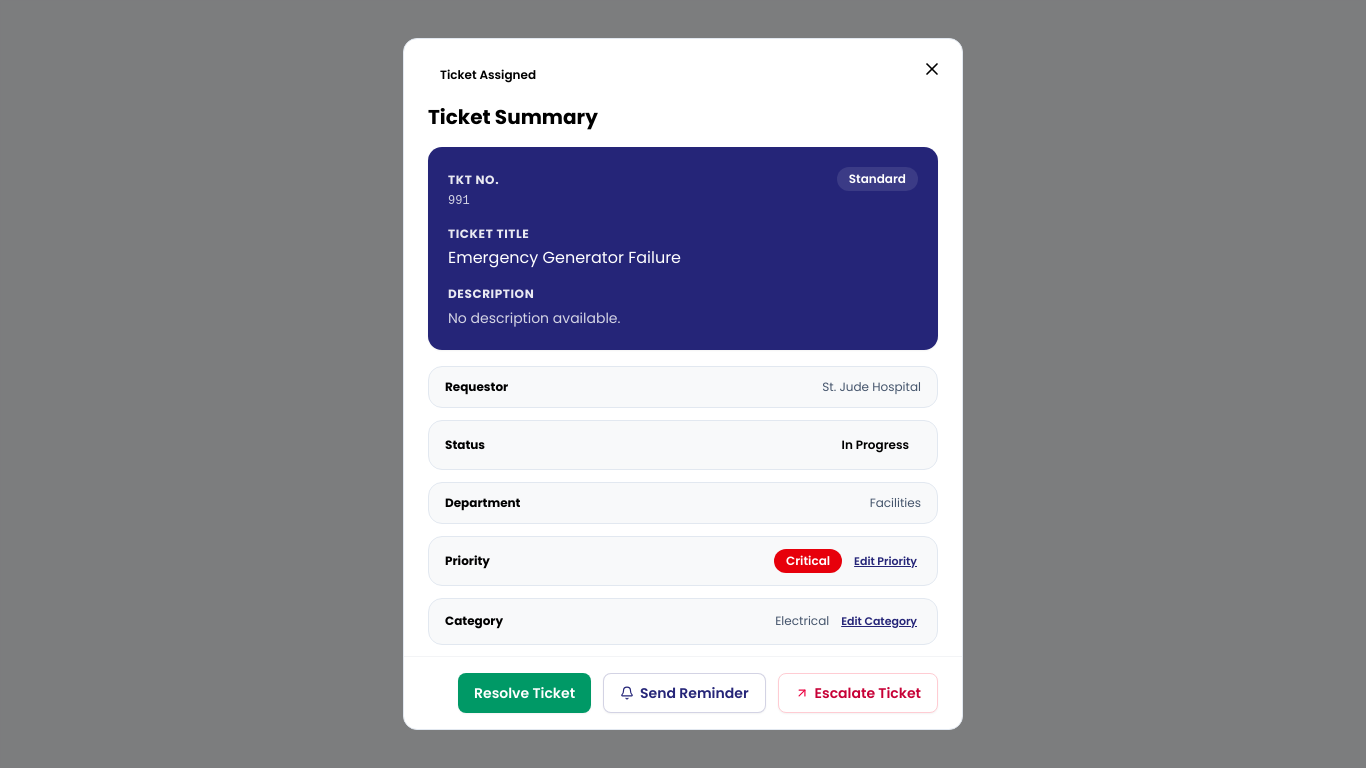
Test: CS SLA Display and Employee Reminder Tests › covers AC-8 (cancel): closing or cancelling Send Reminder dialog aborts send and leaves timeline untouched
Step 1. Click the button "Send Reminder" → (684, 693), box [603,673,766,713]
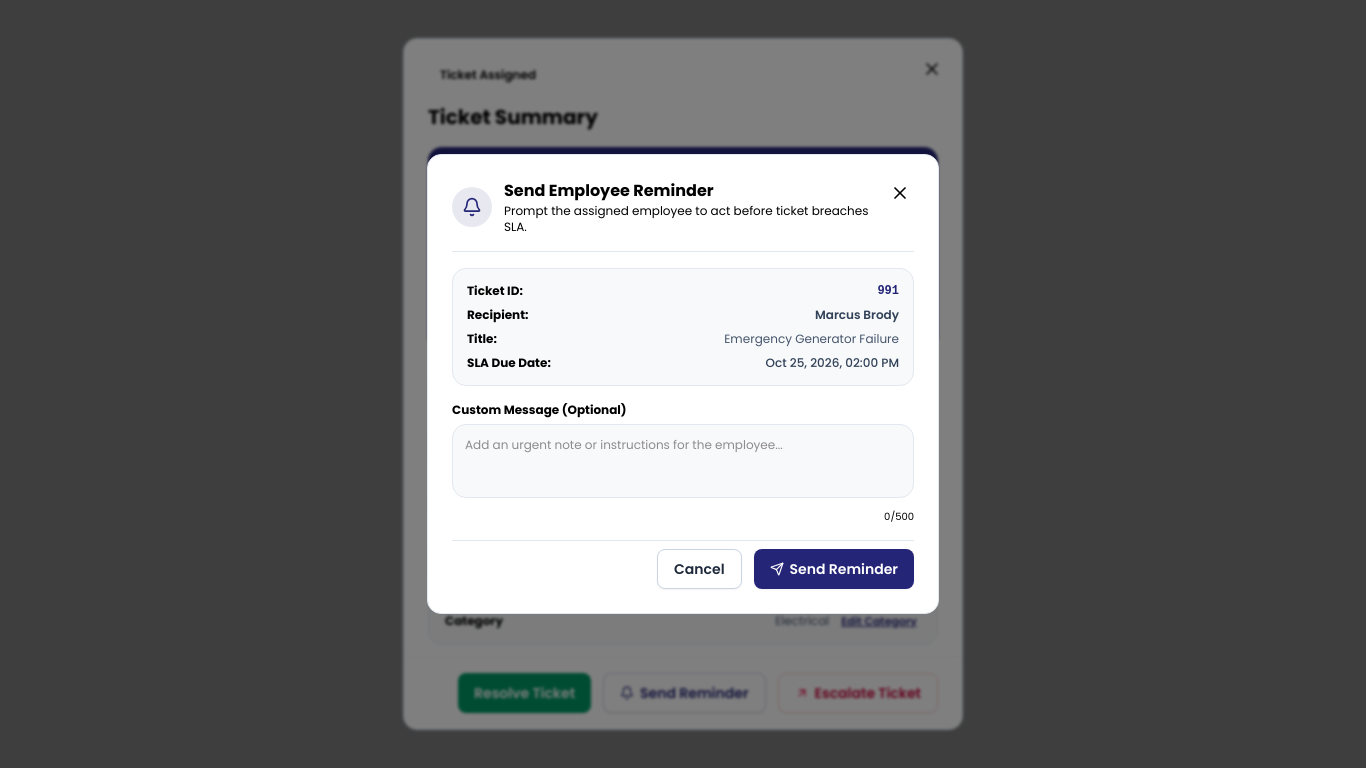
Now the heading "Send Employee Reminder" is shown, box [504,179,714,202]
# Click Cancel in modal
Step 2. Click the button "Cancel" → (699, 569), box [657,549,742,589]
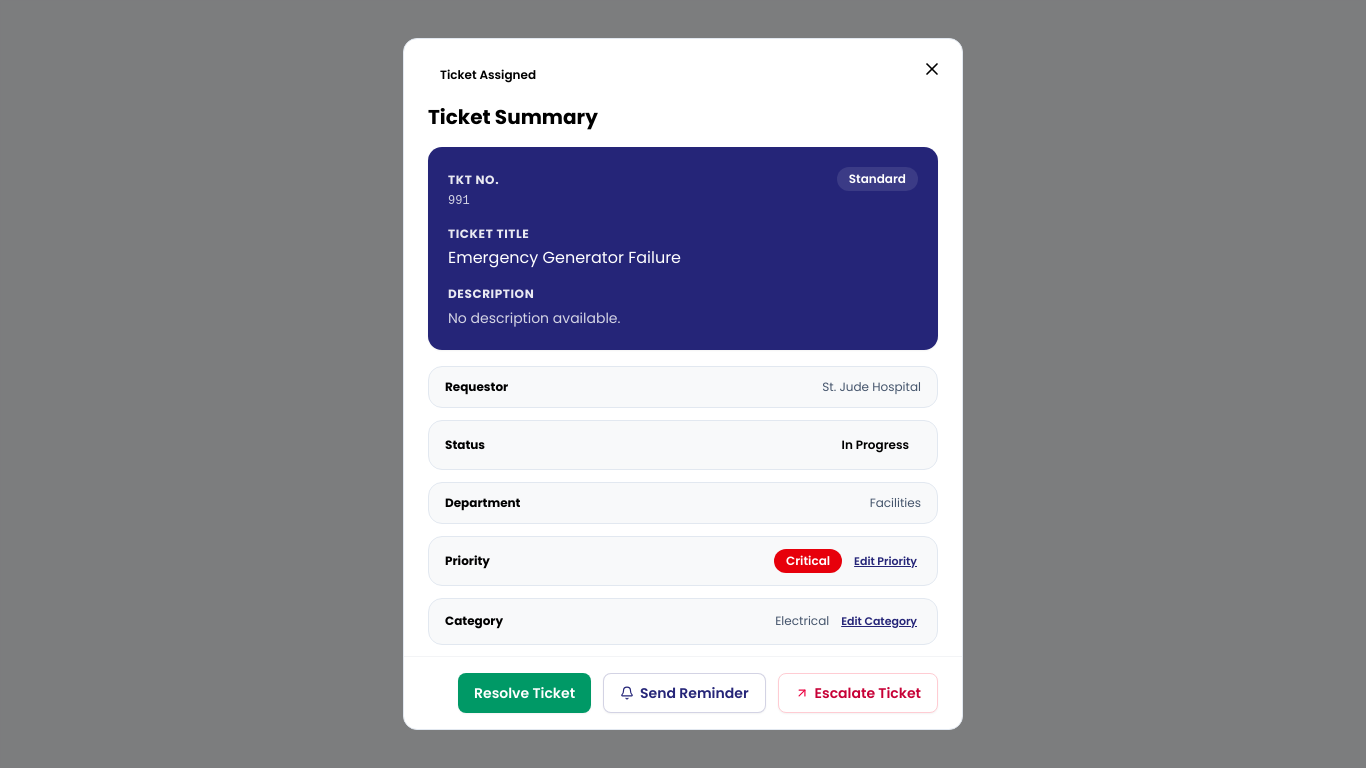
Now the heading "Send Employee Reminder" is gone
